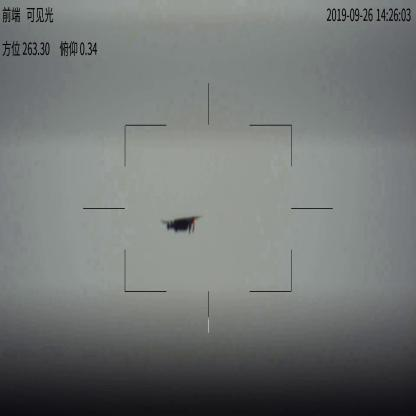uav: (160, 213, 204, 238)
